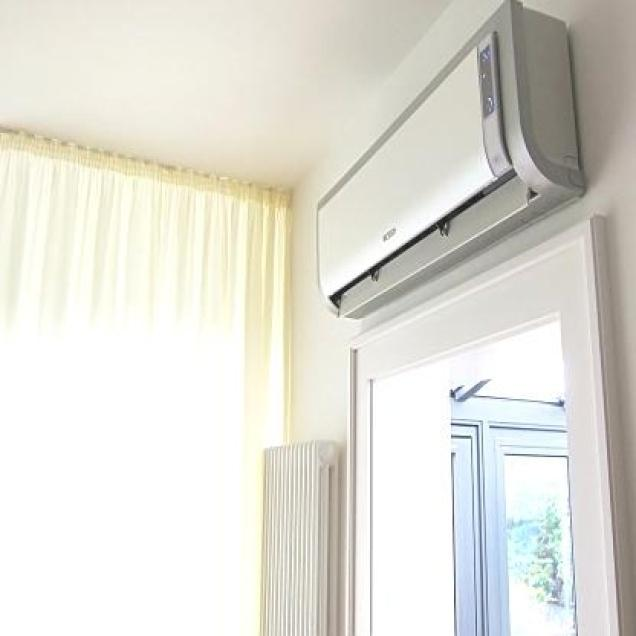AC: (314, 0, 586, 319)
